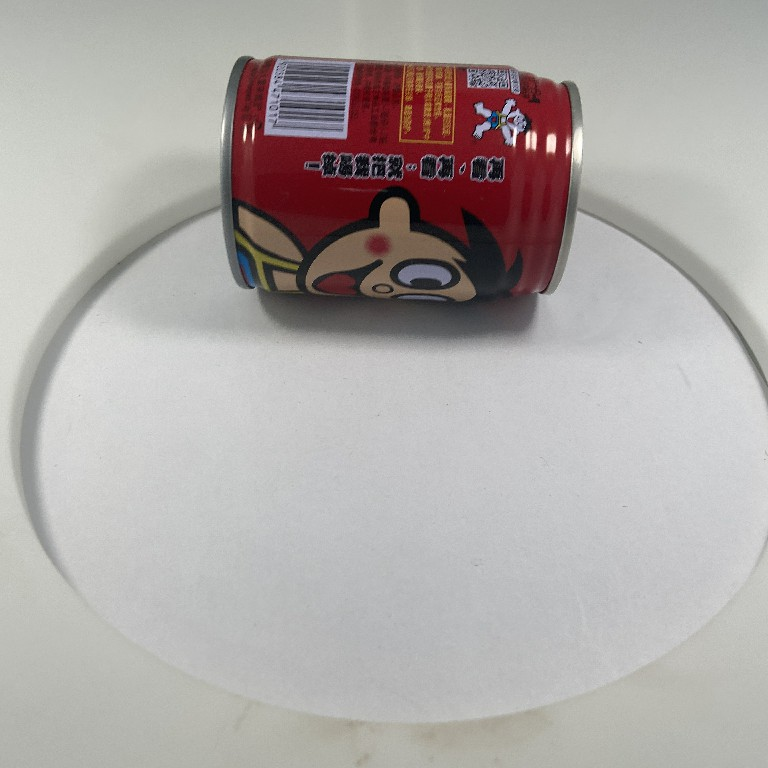can: (215, 53, 590, 306)
